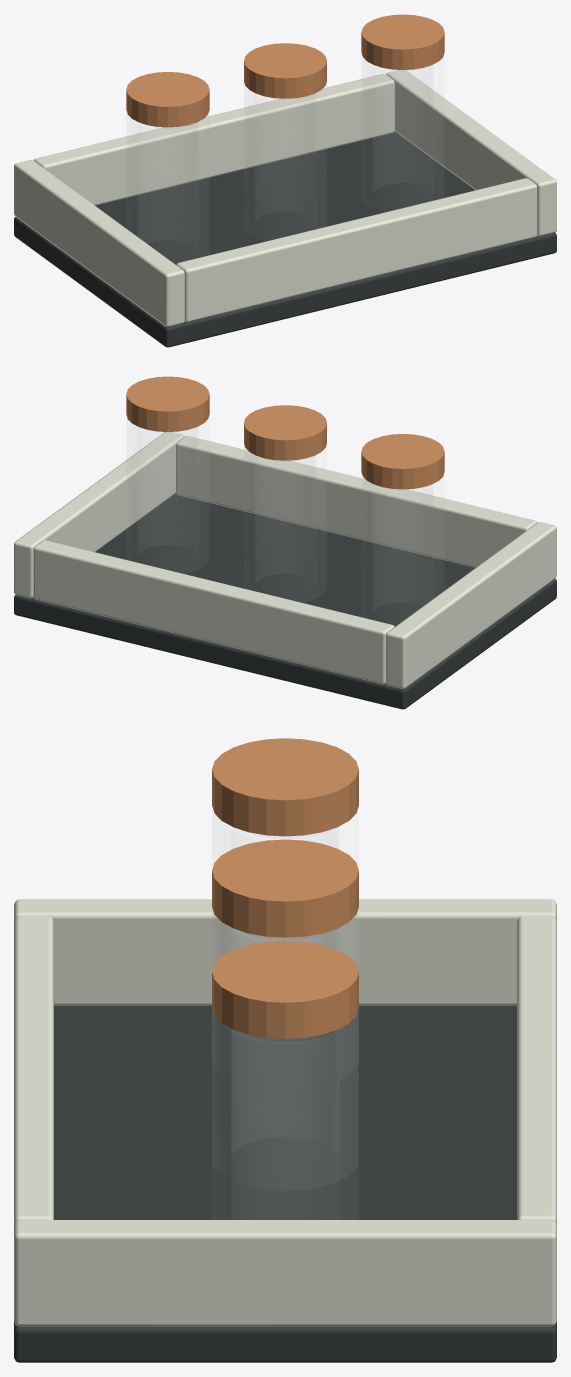
Rendered from generation-ship-hydroponics-generation-ship-hydroponic-305537af__31486.glb.
3 views of the same model, one above another, from view 1: azimuth 30°, elevation 25°; view 2: azimuth 150°, elevation 25°; view 3: azimuth 270°, elevation 25° (orthographic). The views are drawn at different scales.
Visible parts, largest first — view 1: generation-ship-hydroponics-solution-sampling-tray; view 2: generation-ship-hydroponics-solution-sampling-tray; view 3: generation-ship-hydroponics-solution-sampling-tray.
Part boxes in pixels (bbox=[...]): generation-ship-hydroponics-solution-sampling-tray: bbox=[14, 14, 556, 347]; generation-ship-hydroponics-solution-sampling-tray: bbox=[14, 376, 556, 709]; generation-ship-hydroponics-solution-sampling-tray: bbox=[14, 738, 556, 1362].
Size of the model in its own units: 0.5 by 0.225 by 0.34.
